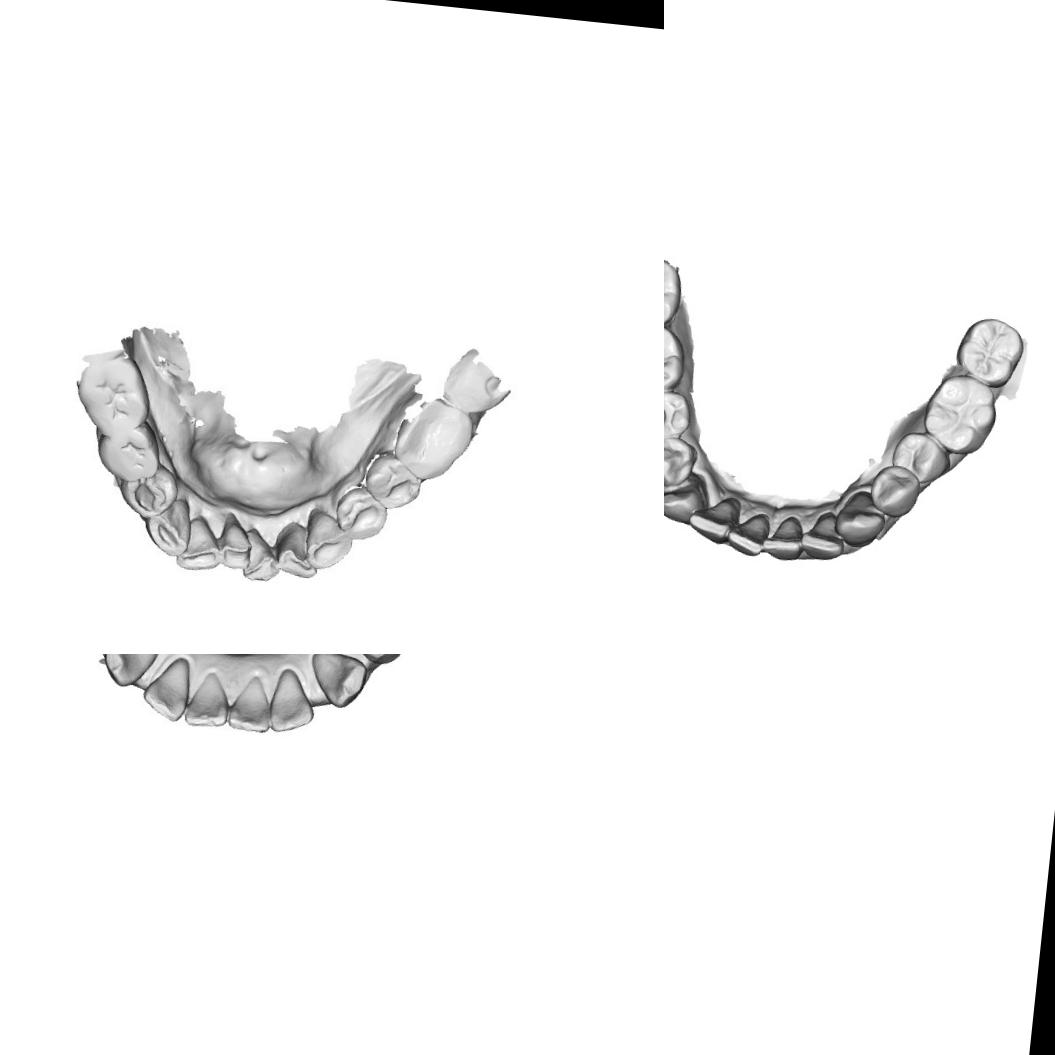canine: (832, 486, 890, 552), (308, 654, 373, 709), (304, 506, 357, 570), (148, 496, 198, 558), (664, 467, 713, 528), (99, 654, 158, 690)
incisor: (138, 654, 191, 725), (268, 666, 318, 740), (172, 514, 224, 579), (229, 672, 278, 735), (182, 668, 230, 732), (272, 522, 323, 582), (686, 492, 742, 546), (798, 506, 848, 564), (238, 530, 285, 586), (724, 507, 772, 560), (760, 512, 806, 564), (216, 516, 256, 572)
molar: (919, 370, 1001, 459), (396, 398, 474, 478), (72, 354, 148, 435), (952, 314, 1028, 392), (97, 421, 162, 484), (664, 319, 689, 403), (664, 252, 686, 331)
premolar: (889, 429, 954, 487), (362, 456, 427, 512), (116, 462, 181, 518), (867, 462, 923, 520), (336, 486, 388, 543), (664, 434, 700, 490), (664, 387, 694, 446)
